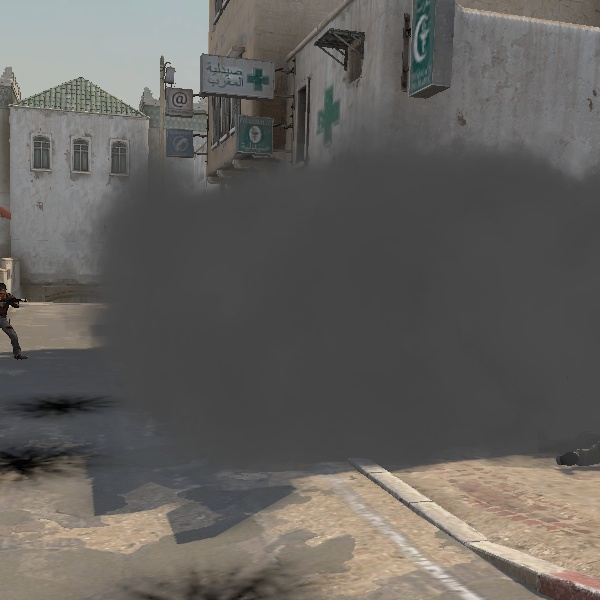t_body: (0, 277, 30, 362)
